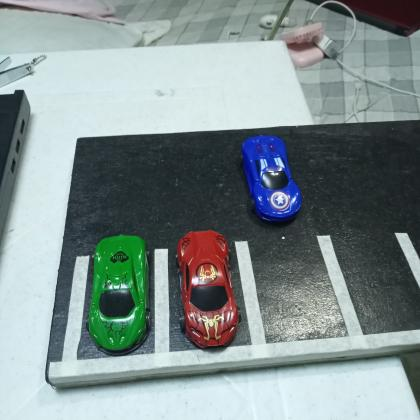Car: (174, 229, 242, 349), (86, 233, 150, 356), (240, 132, 304, 223)
